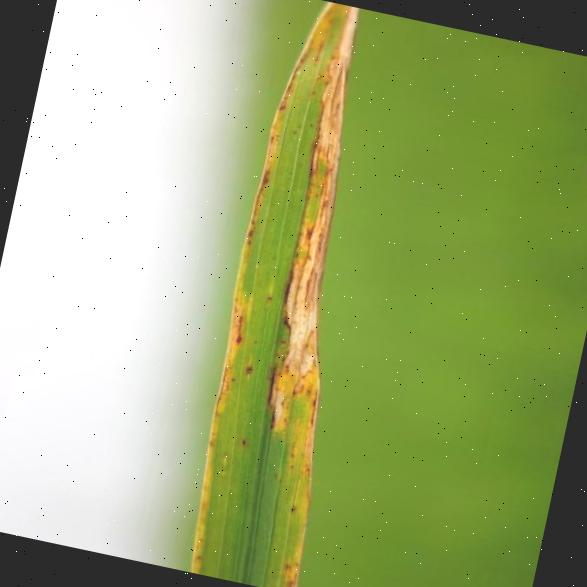Bacteria_Leaf_Blight: (172, 0, 430, 557)
